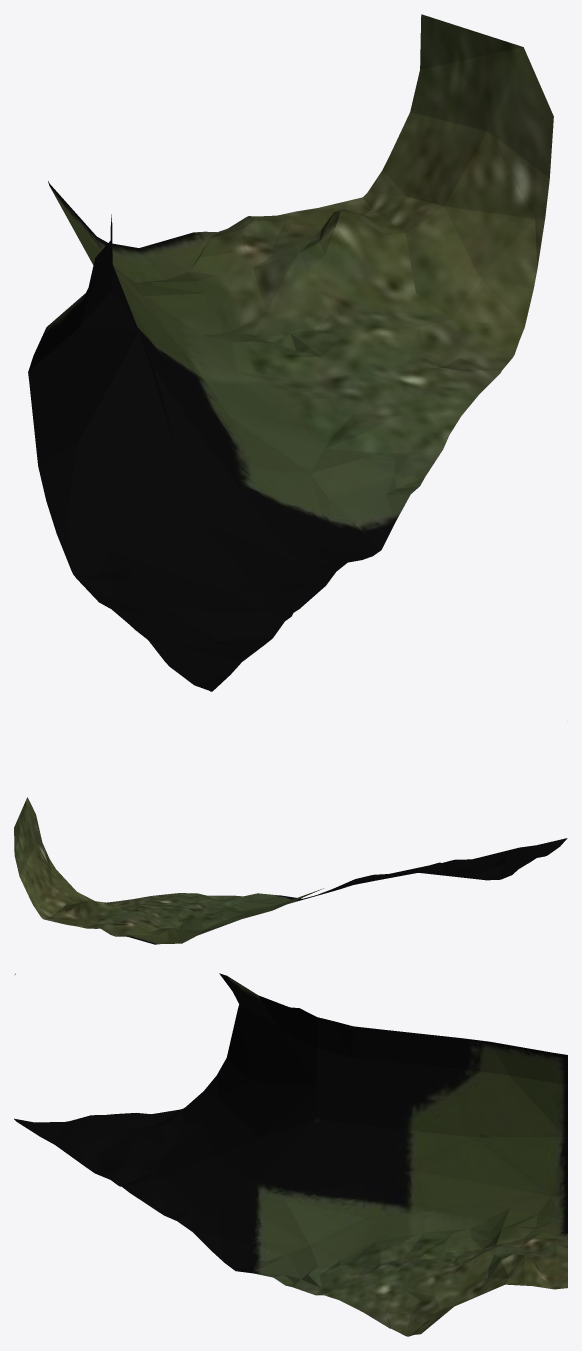
3 views of the same model, one above another, from view 1: azimuth 30°, elevation 25°; view 2: azimuth 150°, elevation 25°; view 3: azimuth 270°, elevation 25° (orthographic). The views are drawn at different scales.
Bounding box in the file's own units: 2.7 × 1.14 × 2.99.
2 materials, 2 textured.
